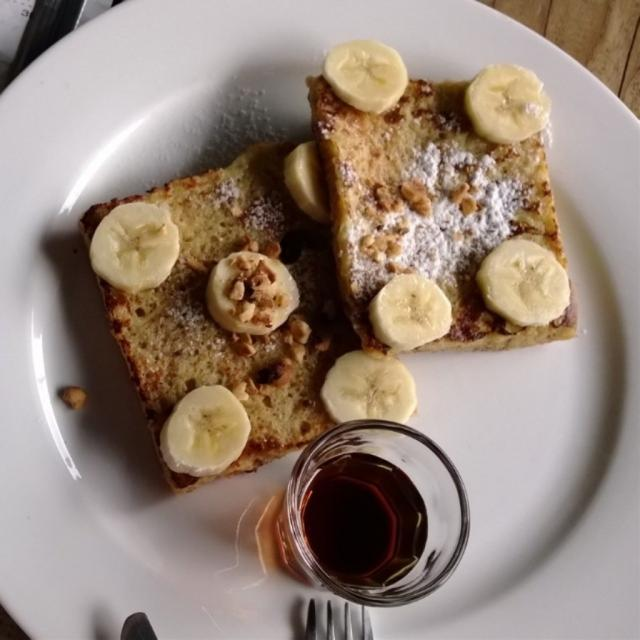Banana: (162, 382, 255, 478), (203, 250, 303, 338), (92, 199, 180, 297), (316, 345, 418, 428), (477, 240, 570, 328), (466, 66, 552, 146), (369, 274, 451, 350), (324, 42, 409, 111), (284, 138, 330, 223)
